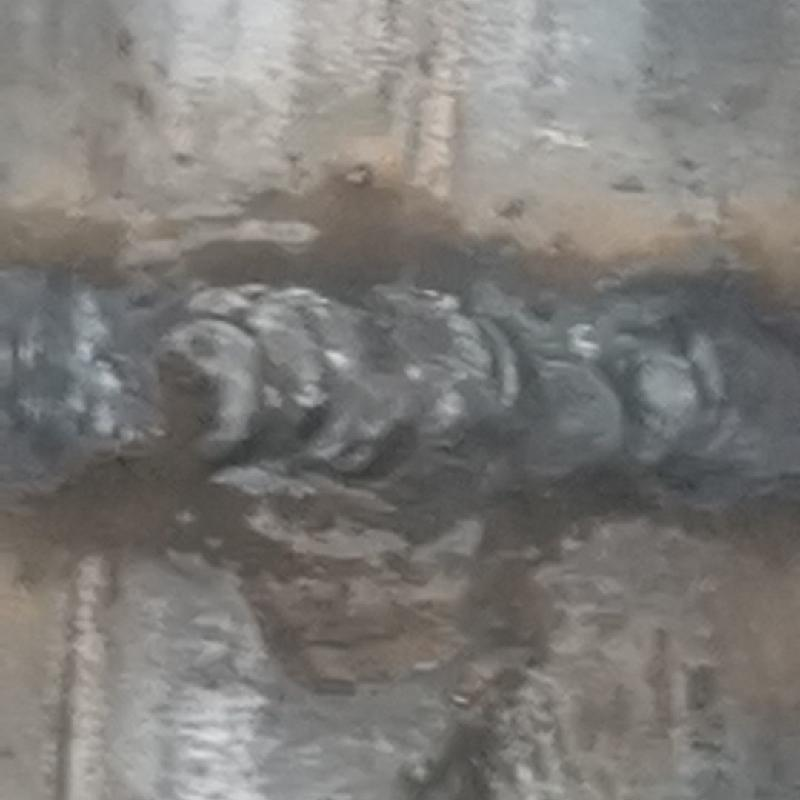good: (2, 263, 799, 502)
